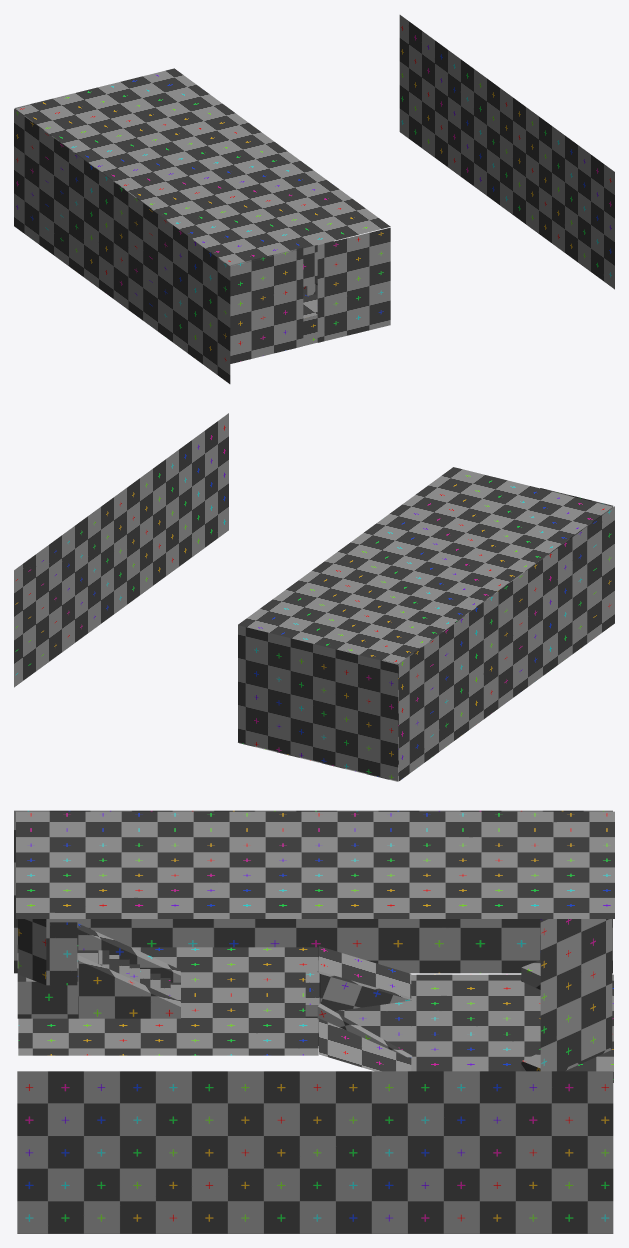
The model's file is CCM2.glb.
The picture shows the model from 3 angles, top to bottom: view 1: azimuth 30°, elevation 25°; view 2: azimuth 150°, elevation 25°; view 3: azimuth 270°, elevation 25°; orthographic projection. The views are drawn at different scales.
Parts seen in each view (by area): view 1: MuroIzq, MuroIzq.001, MuroDer, MuroFrenteIzq, MuroFrenteDer, MuroFrenteAlto; view 2: MuroIzq, MuroIzq.001, MuroDer, MuroFondo; view 3: MuroDer, MuroIzq, PisoAlto, MuroIzq.001, PisoBajo, PanelDer, BalaustradaDer, MuroLetrero, RampaDer, Plataforma, RampaIzq, TunelLadoDer (+3 smaller).
Boxes of the visible parts, left/top/right/bottom form: MuroIzq: left=14, top=68, right=390, bottom=266; MuroIzq.001: left=14, top=109, right=230, bottom=383; MuroDer: left=399, top=15, right=614, bottom=289; MuroFrenteIzq: left=230, top=247, right=303, bottom=363; MuroFrenteDer: left=317, top=227, right=390, bottom=342; MuroFrenteAlto: left=303, top=245, right=317, bottom=286; MuroIzq: left=238, top=467, right=612, bottom=664; MuroIzq.001: left=399, top=506, right=614, bottom=780; MuroDer: left=14, top=413, right=228, bottom=687; MuroFondo: left=238, top=625, right=398, bottom=780; MuroDer: left=17, top=1071, right=613, bottom=1233; MuroIzq: left=16, top=811, right=614, bottom=918; PisoAlto: left=18, top=947, right=318, bottom=1055; MuroIzq.001: left=14, top=810, right=612, bottom=973; PisoBajo: left=334, top=974, right=613, bottom=1082; PanelDer: left=540, top=919, right=612, bottom=1071; BalaustradaDer: left=78, top=955, right=180, bottom=1018; MuroLetrero: left=305, top=971, right=411, bottom=1057; RampaDer: left=319, top=1018, right=411, bottom=1071; Plataforma: left=17, top=944, right=98, bottom=1018; RampaIzq: left=319, top=946, right=411, bottom=998; TunelLadoDer: left=46, top=922, right=77, bottom=985.
Bounding box in the file's own units: 24.04 × 7.08 × 23.43.
Materials: 2 (2 with a texture image).
